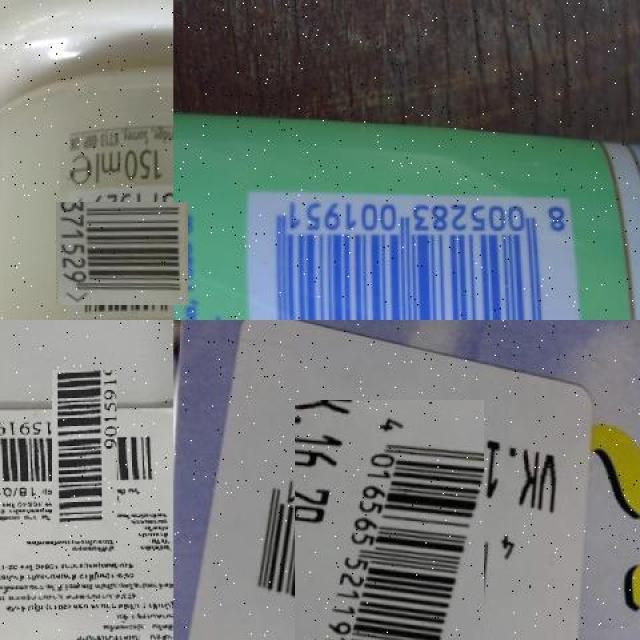Barcode: (269, 426, 510, 640), (242, 180, 590, 320), (26, 396, 144, 514), (62, 195, 180, 313)
